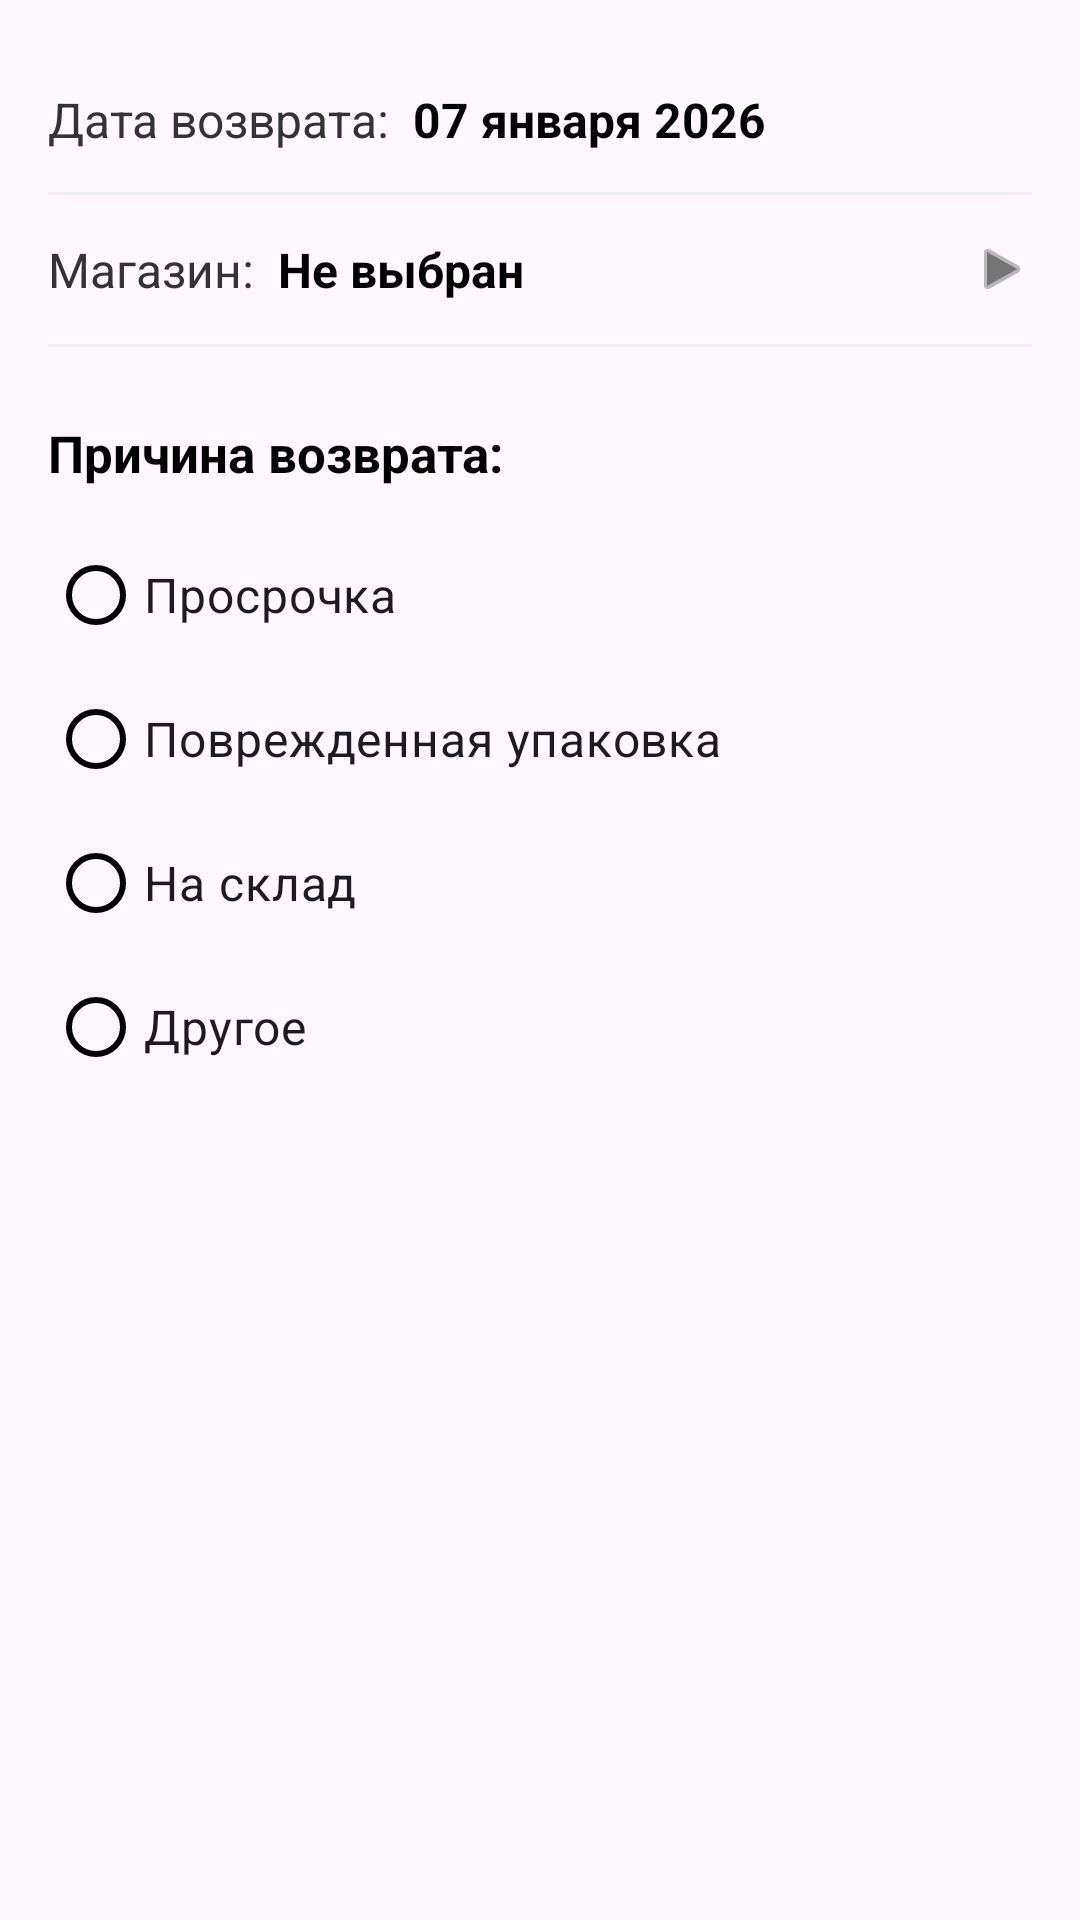

Where to tap for icons on this 1080px×1920px app screen, as (x,y):
play: (1002,269)
